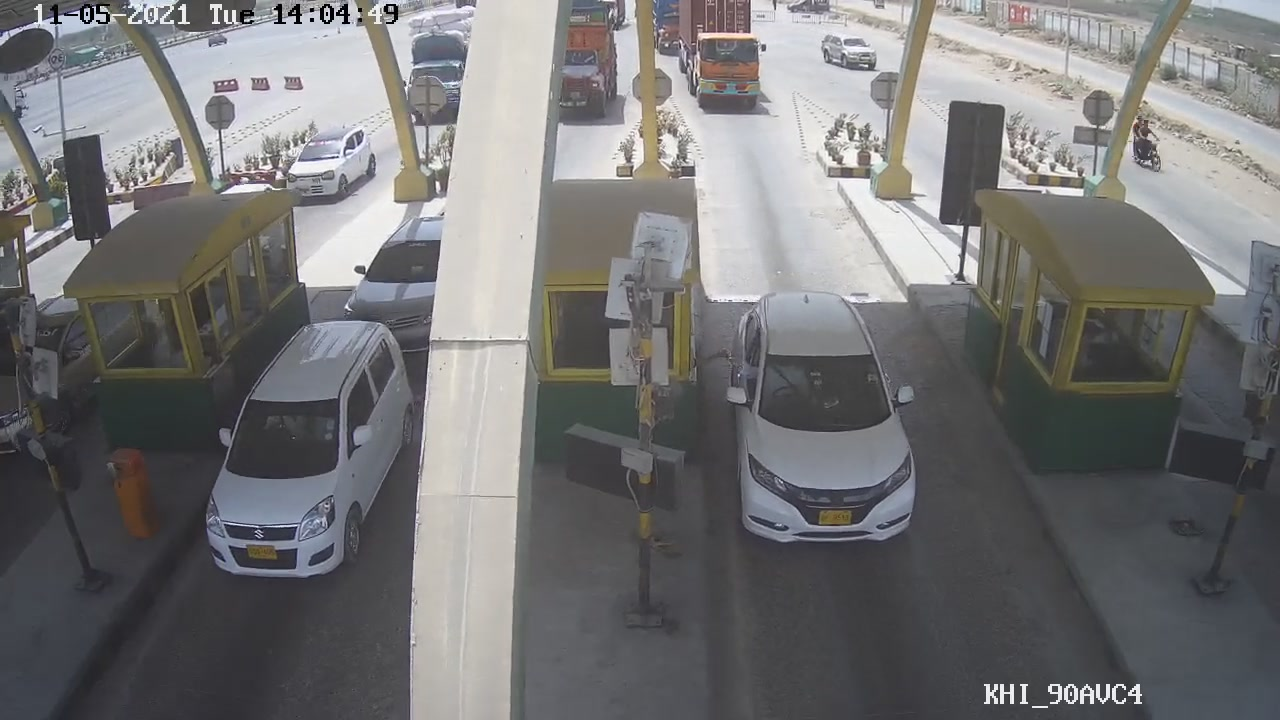F1: (724, 281, 922, 548)
